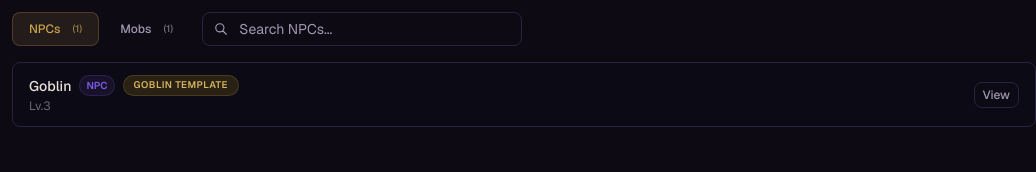
Test: NpcsMobsSection › switches between NPCs and Mobs tabs
Expected: the text "Goblin" is shown, [29, 76, 71, 96]
Expected: the button "NPCs (1)" is shown, [12, 12, 99, 46]
Note: Click Mobs tab
Click the button "Mobs (1)".
click(147, 29)  # box [103, 12, 190, 46]
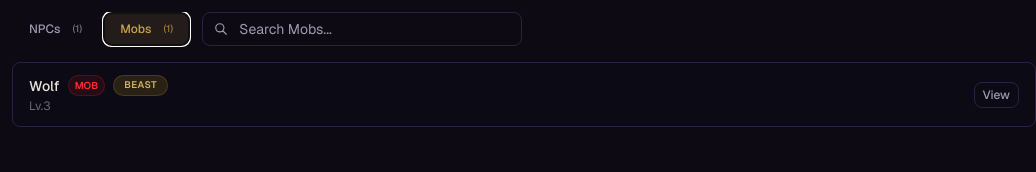
Expected: the text "Goblin" is gone
Expected: the text "Wolf" is shown, [29, 76, 60, 96]
